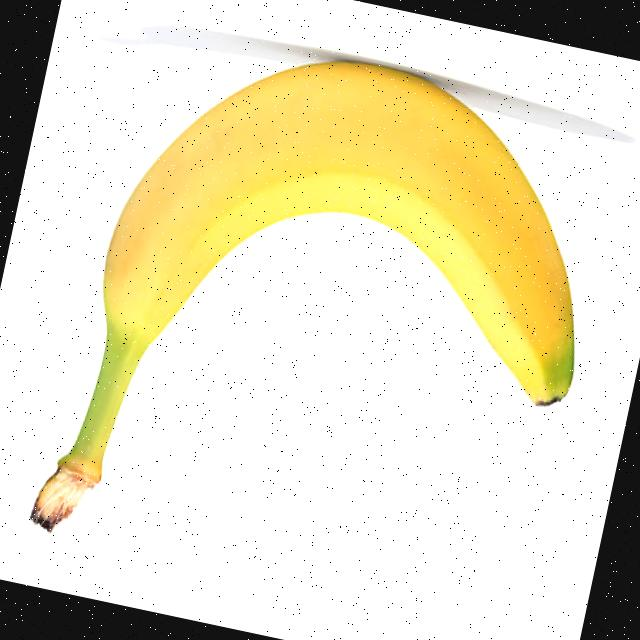Ripe: (50, 16, 632, 582)
